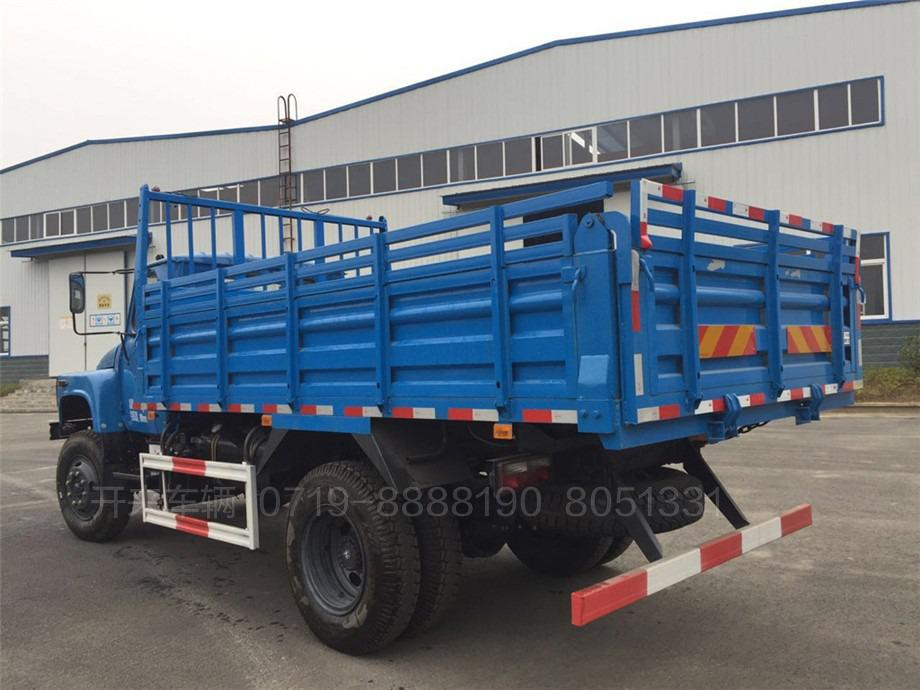truck: (35, 140, 867, 658)
